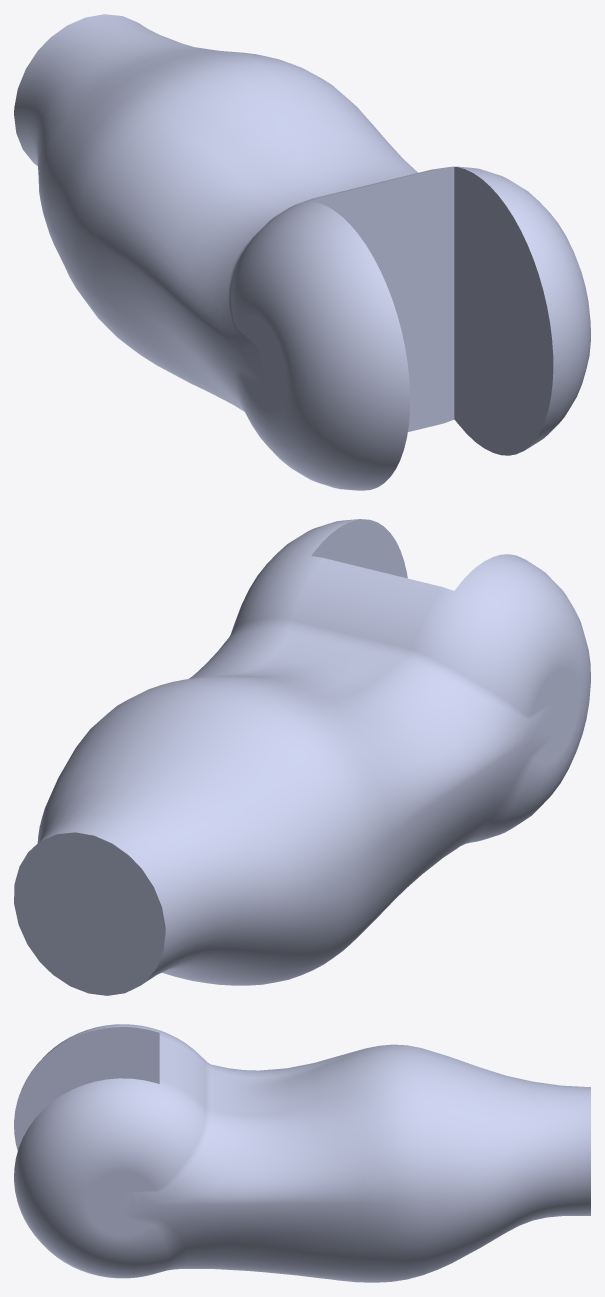
The model's file is 7dof_upper_arm.dae.
The picture shows the model from 3 angles, top to bottom: view 1: azimuth 30°, elevation 25°; view 2: azimuth 150°, elevation 25°; view 3: azimuth 270°, elevation 25°; orthographic projection. The views are drawn at different scales.
Visible parts, largest first — view 1: Body_1; view 2: Body_1; view 3: Body_1.
Boxes of the visible parts, <box> form: Body_1: <box>14,14,590,490</box>; Body_1: <box>14,519,590,995</box>; Body_1: <box>14,1024,590,1282</box>.
Size of the model in its own units: 0.1375 by 0.313 by 0.1298.
